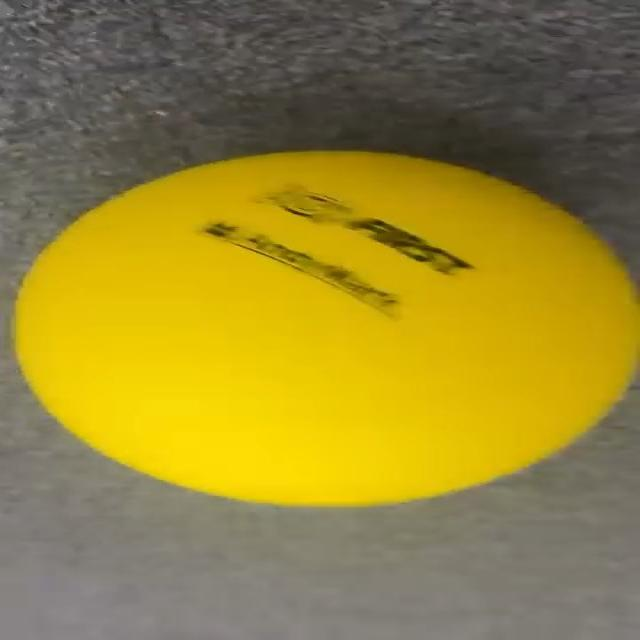Fuels: (18, 154, 635, 504)
